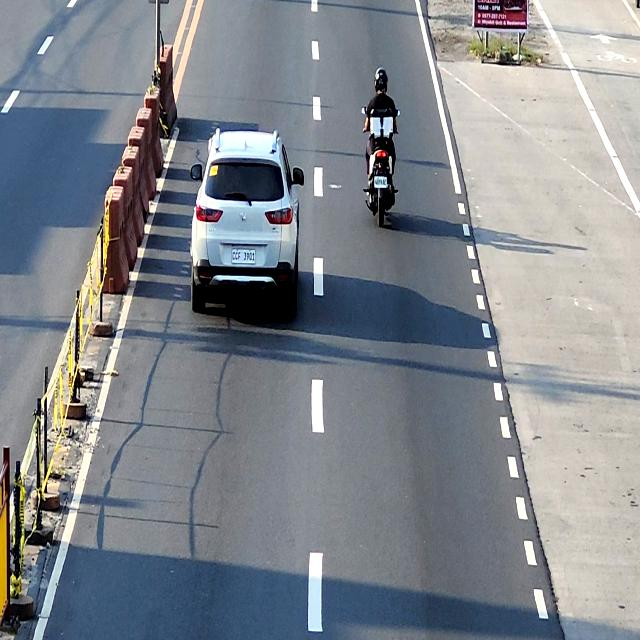Car: (190, 127, 304, 321)
License-Plate: (232, 250, 256, 264), (374, 177, 388, 188)
Motorcycle: (361, 104, 401, 228)
